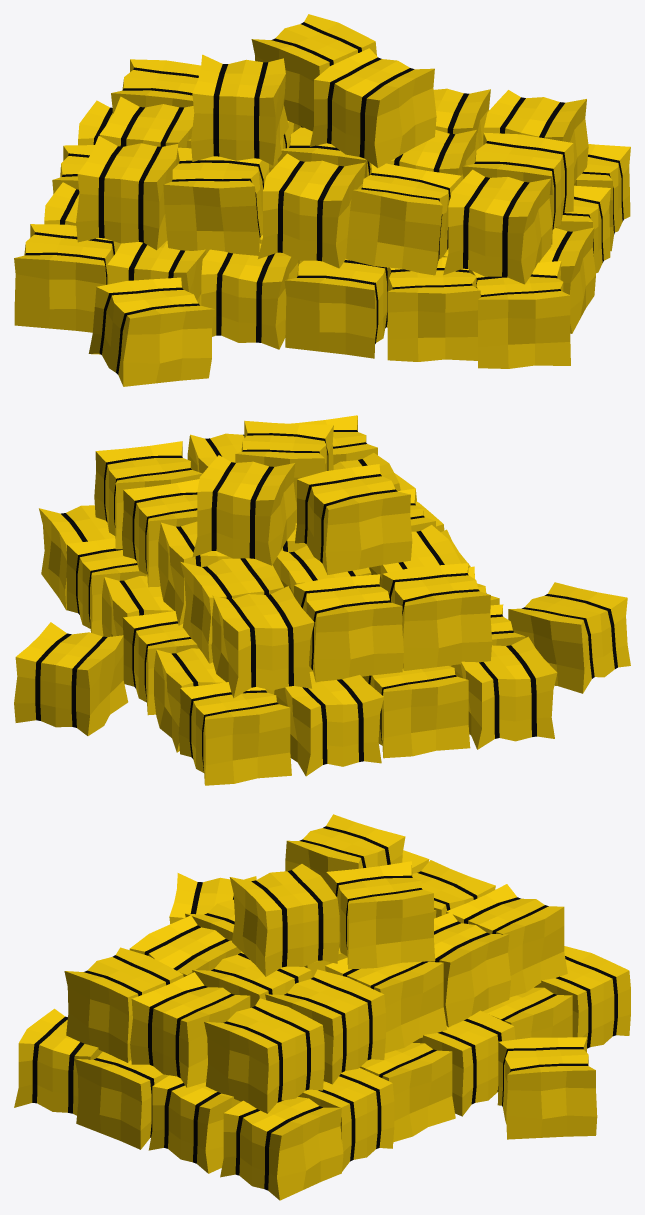
Rendered from Mesthoop.fbx.
3 renders of one model, top to bottom at view 1: azimuth 30°, elevation 25°; view 2: azimuth 150°, elevation 25°; view 3: azimuth 270°, elevation 25°, orthographic. The views are drawn at different scales.
Visible parts, largest first — view 1: Cube.047; view 2: Cube.047; view 3: Cube.047.
Part boxes in pixels (x1,y1,x2,y2): Cube.047: (14,14,630,386); Cube.047: (14,415,630,785); Cube.047: (14,814,630,1200).
Size of the model in its own units: 790 by 270 by 763.
